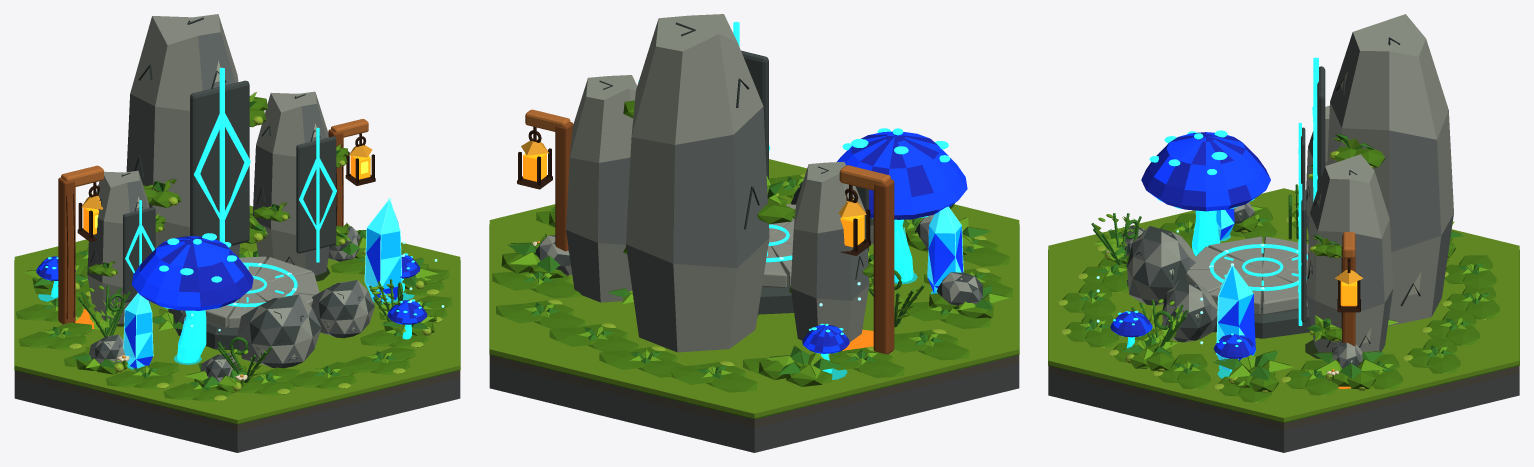
Rendered from hex_rune_shrine.glb.
The picture shows the model from 3 angles, left to right: view 1: azimuth 30°, elevation 25°; view 2: azimuth 150°, elevation 25°; view 3: azimuth 270°, elevation 25°; orthographic projection. The views are drawn at different scales.
Visible parts, largest first — view 1: Standard hex meadow top.001, Weathered shrine monolith.001, Standard hex stone foundation.001, Weathered shrine monolith.003, Flat engraved rune face.001, Broad faceted mushroom cap.001, Angular mossy forest boulder.001, Weathered shrine monolith.002, Flat engraved rune face.003, Standard hex earth layer.001, Angular mossy forest boulder.002, Faceted magical crystal.001 (+25 smaller); view 2: Weathered shrine monolith.001, Standard hex meadow top.001, Standard hex stone foundation.001, Weathered shrine monolith.003, Weathered shrine monolith.002, Broad faceted mushroom cap.001, Standard hex earth layer.001, Woodland lantern upright.001, Faceted magical crystal.002, Woodland lantern upright.002, Angular mossy forest boulder.003, Flat engraved rune face.001 (+26 smaller); view 3: Standard hex meadow top.001, Weathered shrine monolith.001, Weathered shrine monolith.003, Standard hex stone foundation.001, Broad faceted mushroom cap.001, Standard hex earth layer.001, Angular mossy forest boulder.001, Angular mossy forest boulder.002, Faceted magical crystal.001, Shrine stone pedestal.001, Radial shrine paving stone.008, Flat engraved rune face.001 (+23 smaller).
Part boxes in pixels (x1,y1,x2,y2): Standard hex meadow top.001: (14, 205, 460, 423); Weathered shrine monolith.001: (126, 14, 239, 256); Standard hex stone foundation.001: (14, 377, 460, 452); Weathered shrine monolith.003: (252, 91, 329, 275); Flat engraved rune face.001: (190, 80, 249, 245); Broad faceted mushroom cap.001: (131, 236, 253, 310); Angular mossy forest boulder.001: (237, 294, 321, 368); Weathered shrine monolith.002: (87, 170, 149, 323); Flat engraved rune face.003: (296, 136, 336, 253); Standard hex earth layer.001: (14, 370, 460, 431); Angular mossy forest boulder.002: (311, 280, 374, 338); Faceted magical crystal.001: (365, 201, 401, 302); Weathered shrine monolith.001: (626, 14, 769, 352); Standard hex meadow top.001: (489, 159, 1019, 417); Standard hex stone foundation.001: (489, 363, 1019, 452); Weathered shrine monolith.003: (566, 75, 637, 302); Weathered shrine monolith.002: (790, 161, 869, 342); Broad faceted mushroom cap.001: (837, 131, 967, 219); Standard hex earth layer.001: (489, 355, 1019, 427); Woodland lantern upright.001: (873, 179, 894, 354); Faceted magical crystal.002: (927, 206, 963, 293); Woodland lantern upright.002: (555, 122, 573, 275); Angular mossy forest boulder.003: (936, 272, 983, 308); Flat engraved rune face.001: (741, 50, 768, 243); Standard hex meadow top.001: (1048, 188, 1519, 421); Weathered shrine monolith.001: (1327, 14, 1453, 325); Weathered shrine monolith.003: (1306, 154, 1393, 353); Standard hex stone foundation.001: (1048, 373, 1519, 452); Broad faceted mushroom cap.001: (1141, 132, 1270, 211); Standard hex earth layer.001: (1048, 366, 1519, 430); Angular mossy forest boulder.001: (1127, 226, 1196, 305); Angular mossy forest boulder.002: (1162, 280, 1217, 342); Faceted magical crystal.001: (1217, 266, 1255, 370); Shrine stone pedestal.001: (1213, 249, 1311, 338); Radial shrine paving stone.008: (1262, 269, 1307, 314); Flat engraved rune face.001: (1317, 66, 1325, 189).
Size of the model in its own units: 5.11 by 3.2 by 4.42.
